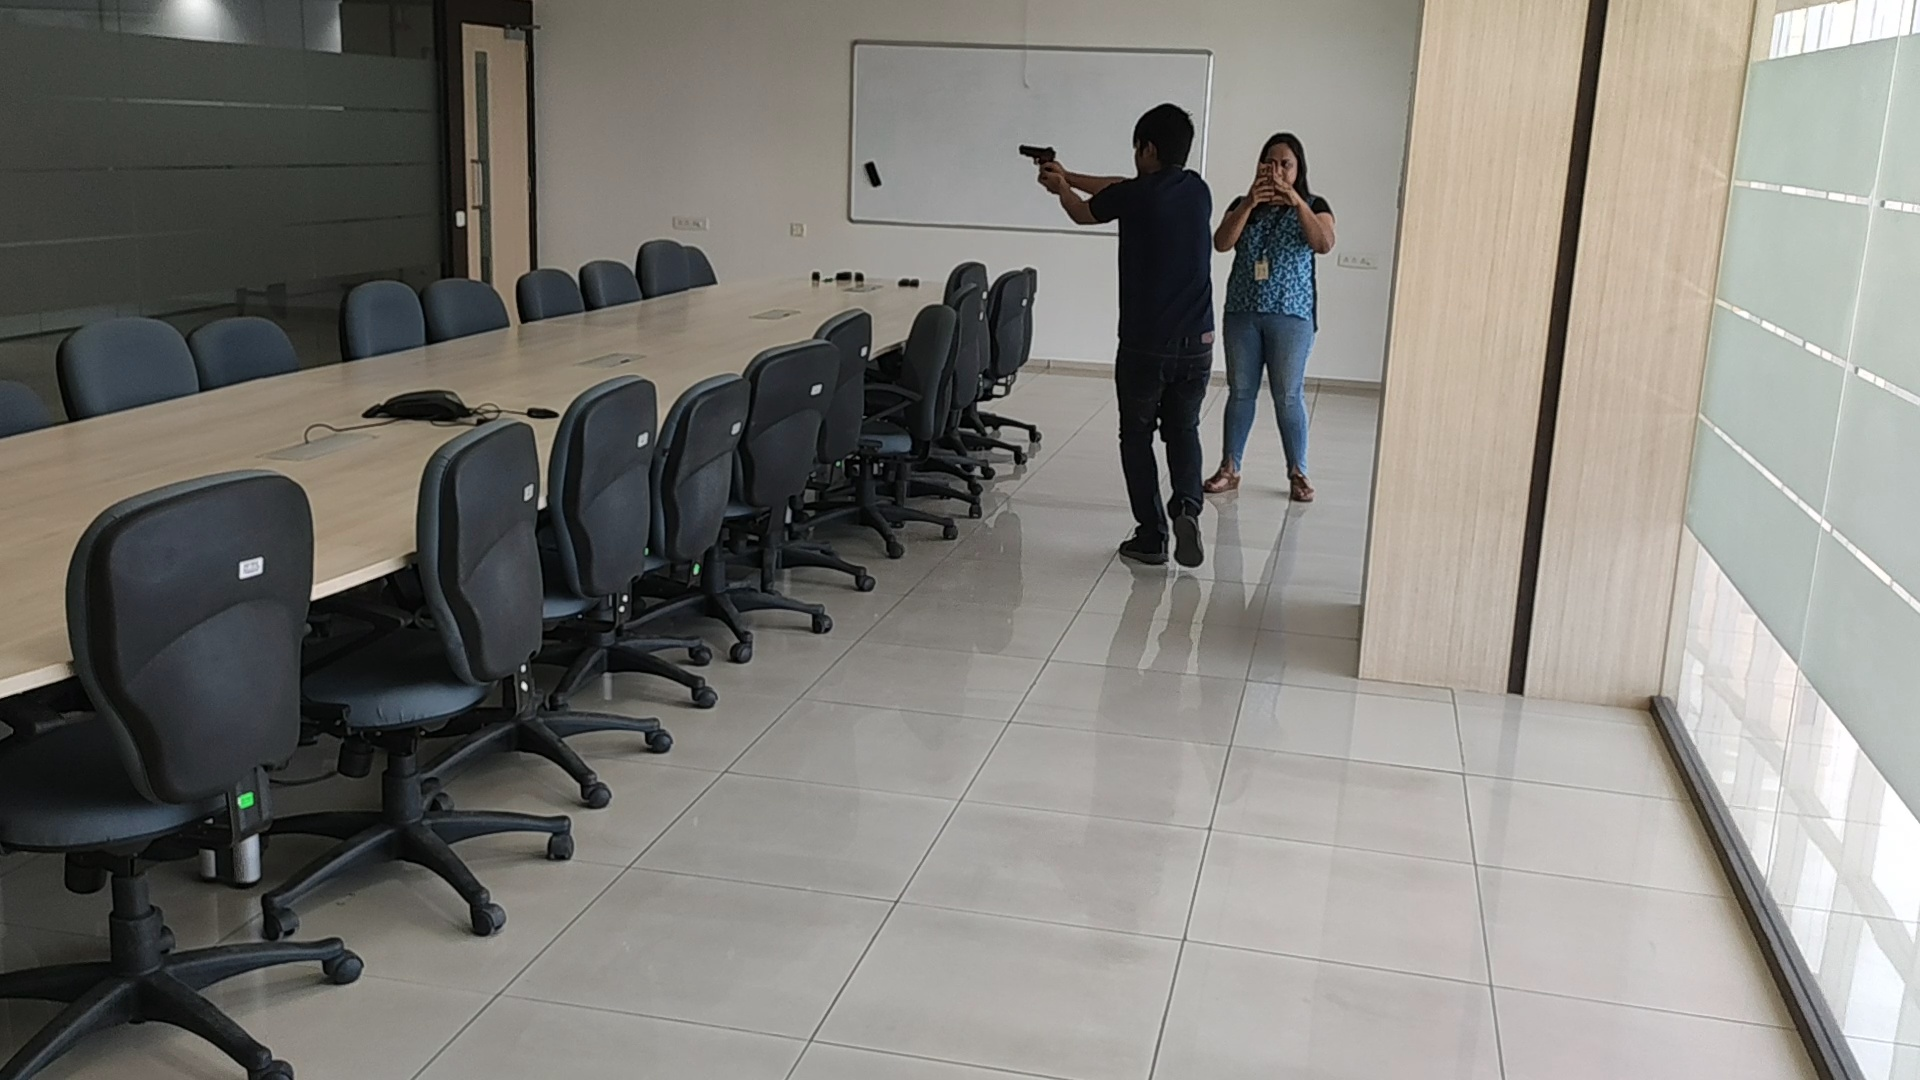gun: (1017, 145, 1058, 167)
